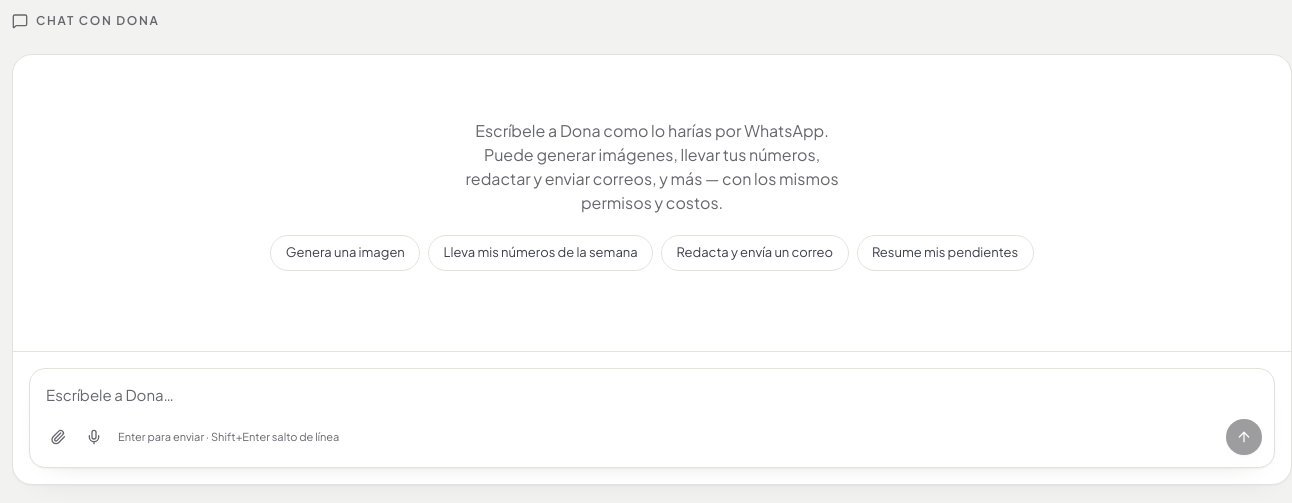
Test: SeccionChat › pinta el turno del usuario y la respuesta de Dona
Type "hola dona" into the text box with placeholder "Escríbele a Dona…".
click(652, 388); type("hola dona")  # box [30,369,1274,407]
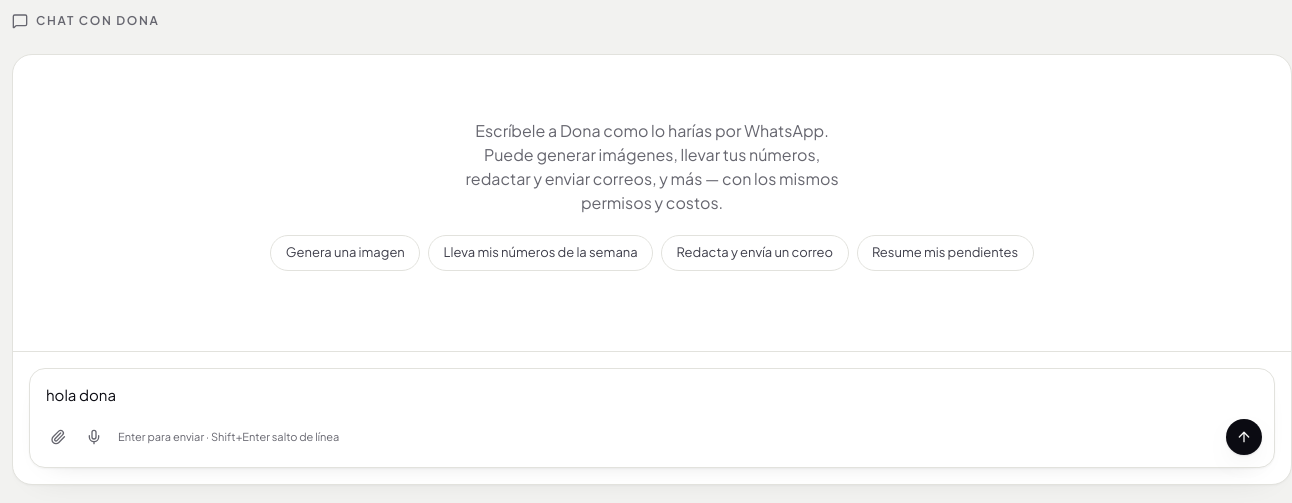
Click the button named "Enviar mensaje".
click(1244, 437)  # box [1226,419,1262,455]
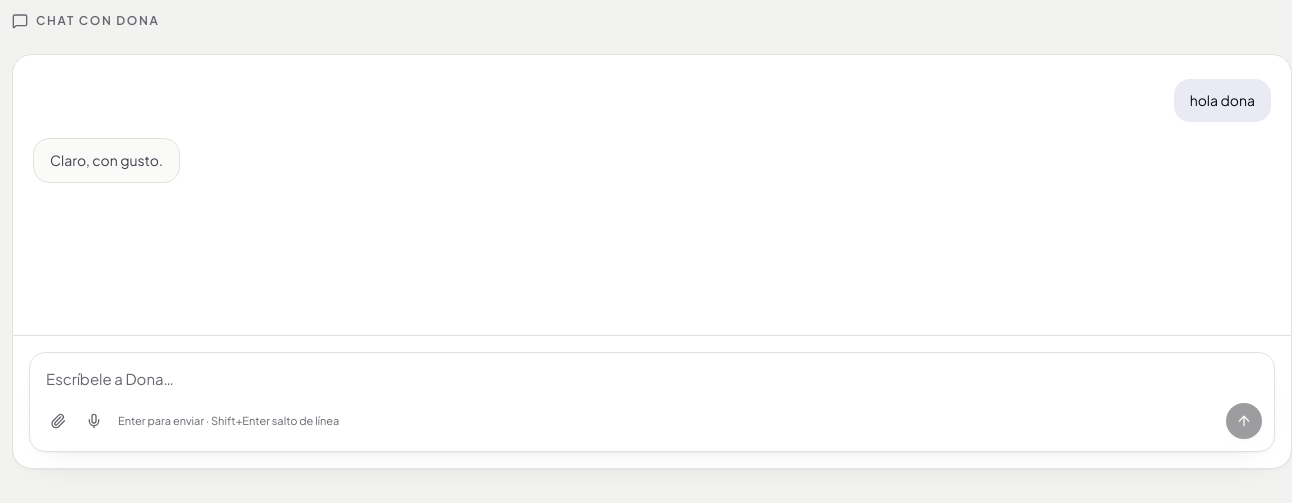
Expected: the text "hola dona" is shown, [1190,91,1255,109]
Expected: the text "Claro, con gusto." is shown, [50,151,163,169]
